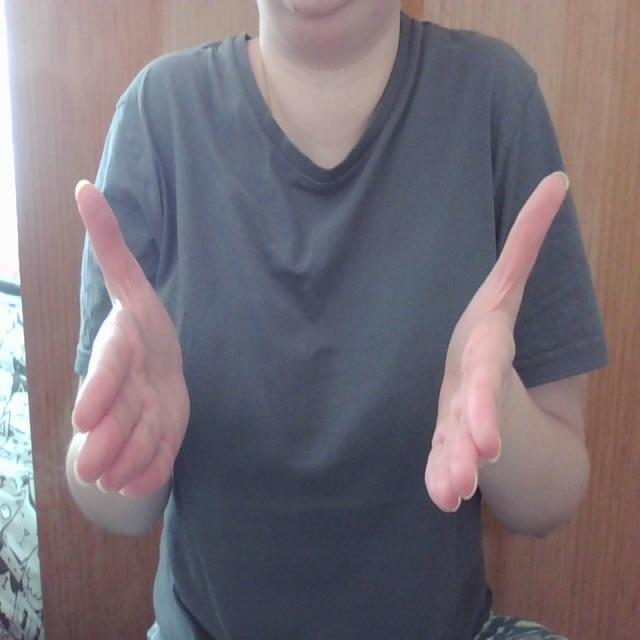Nasil: (57, 150, 580, 534)
